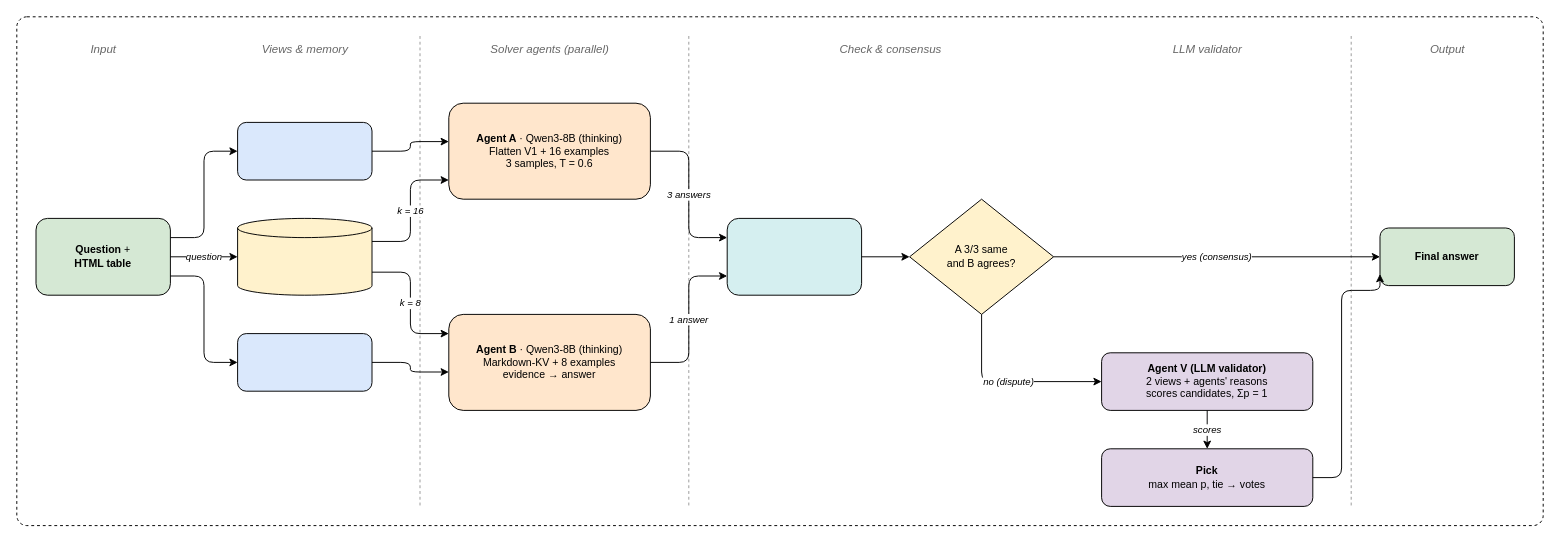
The diagram is 1560 pixels wide and 542 high, and some of its shapes have lost their labels. The centre of each missing label's shape, as x and y in pixels:
"Answer filter empty / non yes-no" belongs at [794,256].
"Flatten V1" belongs at [304,150].
"Markdown-KV" belongs at [304,362].
"Same-table memory train QA, Jaccard" belongs at [304,256].
